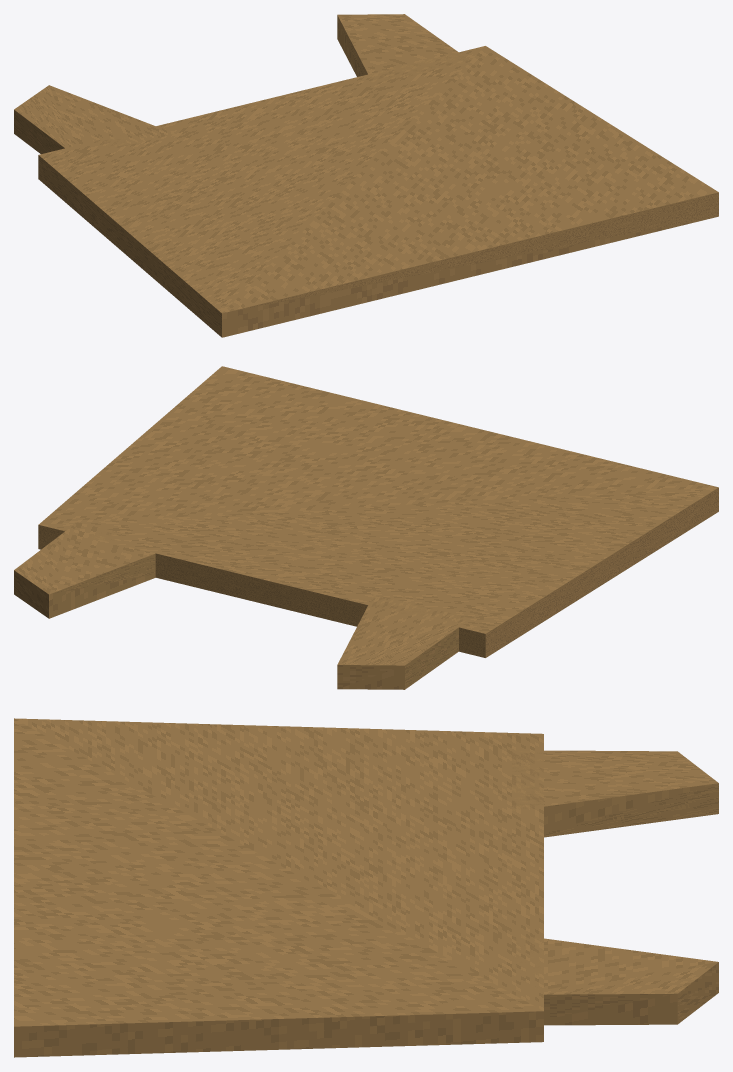
Rendered from halter_top.glb.
3 views of the same model, one above another, from view 1: azimuth 30°, elevation 25°; view 2: azimuth 150°, elevation 25°; view 3: azimuth 270°, elevation 25° (orthographic). The views are drawn at different scales.
Parts seen in each view (by area): view 1: block_shirt torso, block_sleeve or strap -1, block_sleeve or strap 1; view 2: block_shirt torso, block_sleeve or strap -1, block_sleeve or strap 1; view 3: block_shirt torso, block_sleeve or strap -1, block_sleeve or strap 1.
Part boxes in pixels (bbox=[...]): block_shirt torso: bbox=[38, 46, 718, 337]; block_sleeve or strap -1: bbox=[14, 85, 174, 153]; block_sleeve or strap 1: bbox=[337, 14, 469, 84]; block_shirt torso: bbox=[38, 366, 718, 657]; block_sleeve or strap -1: bbox=[337, 594, 470, 689]; block_sleeve or strap 1: bbox=[14, 522, 155, 618]; block_shirt torso: bbox=[14, 718, 543, 1057]; block_sleeve or strap -1: bbox=[512, 750, 718, 837]; block_sleeve or strap 1: bbox=[513, 934, 718, 1025].
Bounding box in the file's own units: 0.3 × 0.014 × 0.29.
1 material, 1 textured.
